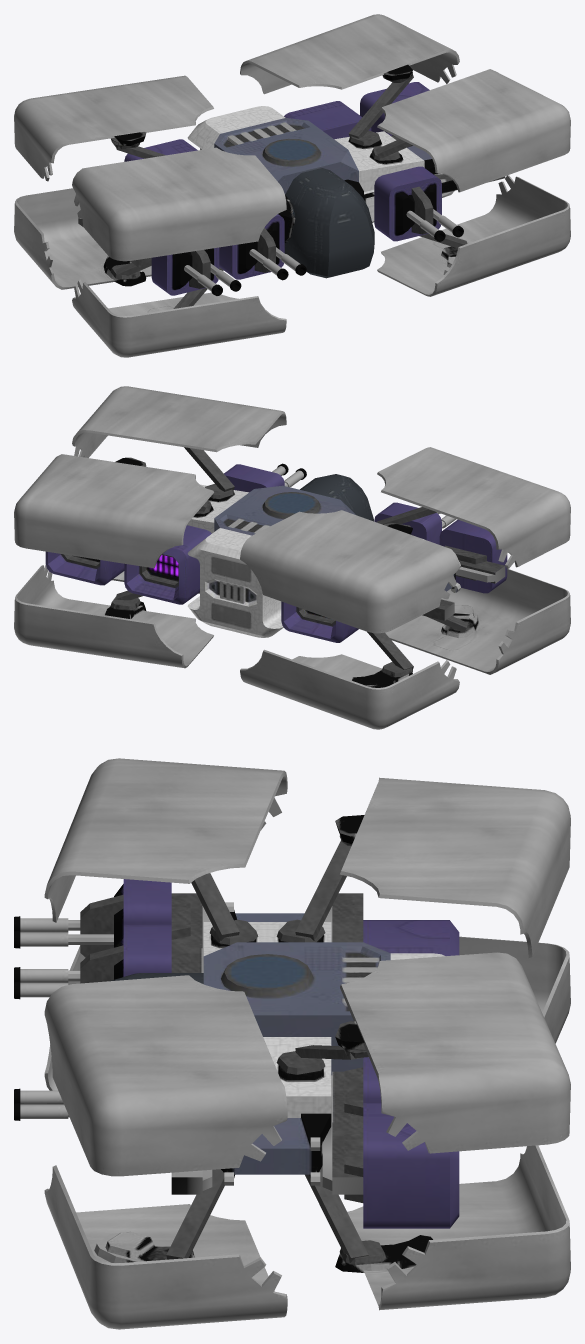
The model's file is dalton.glb.
3 renders of one model, top to bottom at view 1: azimuth 30°, elevation 25°; view 2: azimuth 150°, elevation 25°; view 3: azimuth 270°, elevation 25°, orthographic. The views are drawn at different scales.
Visible parts, largest first — view 1: MeshLP; view 2: MeshLP; view 3: MeshLP.
Boxes of the visible parts, x1=… form: MeshLP: x1=14, y1=14, x2=570, y2=357; MeshLP: x1=14, y1=386, x2=570, y2=729; MeshLP: x1=14, y1=758, x2=570, y2=1329.
Size of the model in its own units: 8.76 by 2.7 by 5.8.
1 material, 1 textured.
